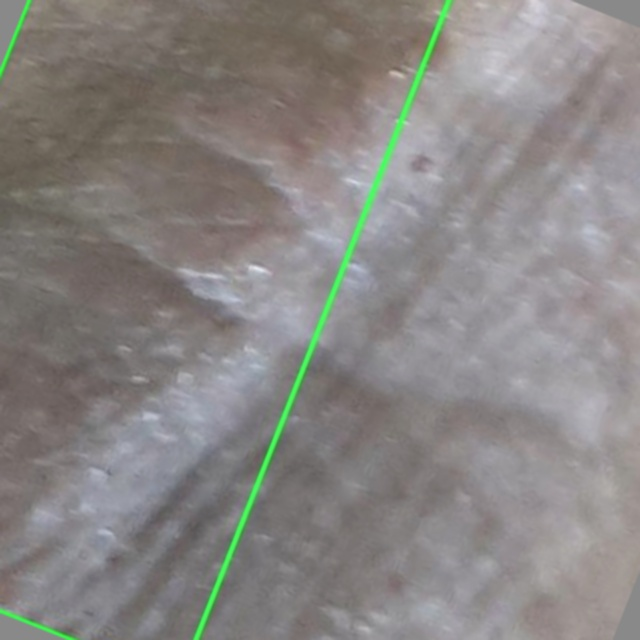Tinea Corporis: (0, 0, 448, 639)
